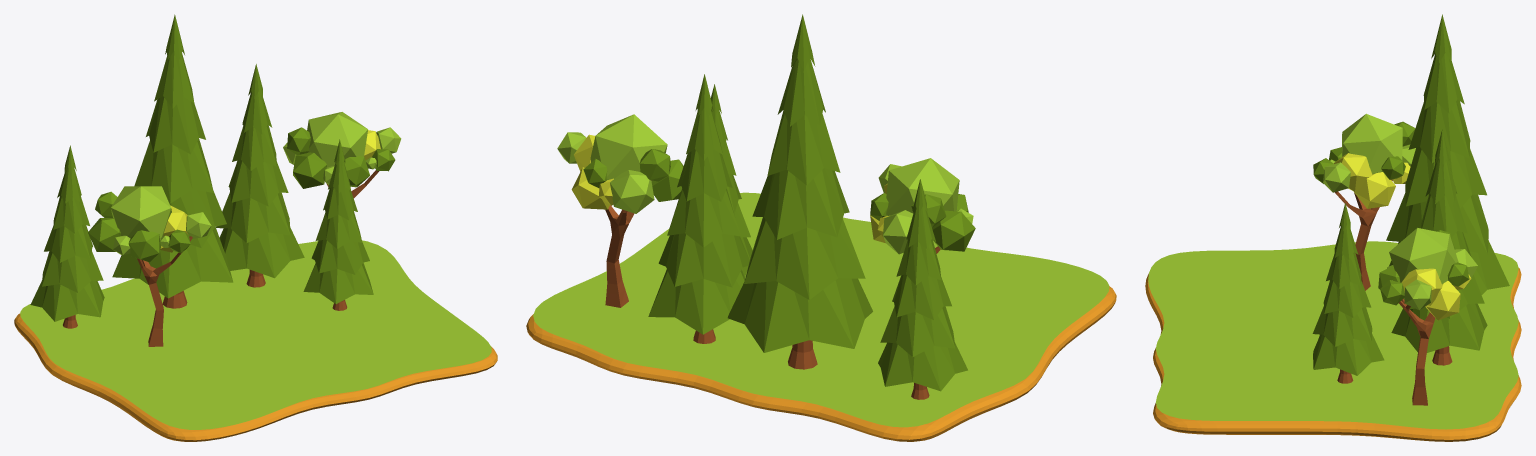
The model's file is landscape.glb.
The picture shows the model from 3 angles, left to right: view 1: azimuth 30°, elevation 25°; view 2: azimuth 150°, elevation 25°; view 3: azimuth 270°, elevation 25°; orthographic projection. The views are drawn at different scales.
Visible parts, largest first — view 1: Plane.001, Cylinder, Cylinder.002, Cylinder.006, Plane, Cylinder.004, Icosphere.015, Icosphere.002, Cube.001, Icosphere.011, Icosphere.018, Icosphere.024 (+3 smaller); view 2: Plane.001, Cylinder, Cylinder.002, Cylinder.006, Plane, Icosphere.002, Icosphere.015, Cube, Icosphere.009, Cylinder.004, Icosphere.024, Icosphere.022 (+4 smaller); view 3: Plane.001, Cylinder, Cylinder.004, Plane, Cylinder.002, Icosphere.002, Icosphere.015, Cube, Cube.001, Icosphere.023, Icosphere.010, Icosphere.014 (+6 smaller).
Part boxes in pixels (x1,y1,x2,y2): Plane.001: (20,240,491,429); Cylinder: (112,14,233,298); Cylinder.002: (216,64,304,278); Cylinder.006: (30,145,104,321); Plane: (14,313,497,441); Cylinder.004: (303,139,373,303); Icosphere.015: (111,186,171,240); Icosphere.002: (307,112,367,167); Cube.001: (137,236,192,346); Icosphere.011: (293,152,326,188); Icosphere.018: (128,230,160,262); Icosphere.024: (88,218,120,251); Plane.001: (533,192,1109,427); Cylinder: (727,14,872,352); Cylinder.002: (648,74,749,334); Cylinder.006: (878,179,967,391); Plane: (526,286,1116,441); Icosphere.002: (590,114,667,182); Icosphere.015: (886,158,959,215); Cube: (605,180,651,307); Icosphere.009: (610,170,654,213); Cylinder.004: (710,84,752,277); Icosphere.024: (932,210,975,251); Icosphere.022: (883,210,913,254); Plane.001: (1148,241,1518,429); Cylinder: (1386,14,1509,299); Cylinder.004: (1312,203,1384,375); Plane: (1145,268,1521,441); Cylinder.002: (1391,129,1487,352); Icosphere.002: (1389,228,1458,284); Icosphere.015: (1342,113,1402,174); Cube: (1399,299,1435,405); Cube.001: (1335,179,1392,290); Icosphere.023: (1354,172,1395,208); Icosphere.010: (1425,281,1460,320); Icosphere.014: (1334,153,1372,191).
Size of the model in its own units: 37.79 by 29.49 by 31.27.
